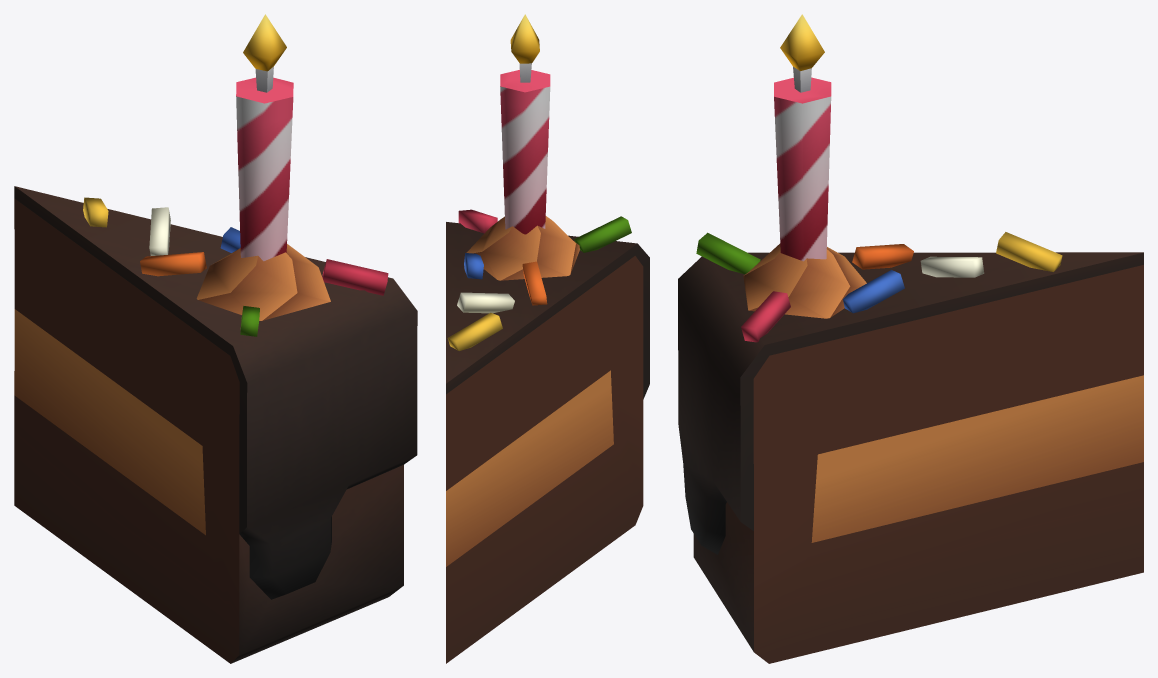
File: m_BirthdayCake04_Slice02.fbx
3 renders of one model, left to right at view 1: azimuth 30°, elevation 25°; view 2: azimuth 150°, elevation 25°; view 3: azimuth 270°, elevation 25°, orthographic. The views are drawn at different scales.
Visible parts, largest first — view 1: m_BirthdayCake04_Slice02; view 2: m_BirthdayCake04_Slice02; view 3: m_BirthdayCake04_Slice02.
Boxes of the visible parts, x1,y1,x2,y2 form: m_BirthdayCake04_Slice02: [14, 14, 417, 663]; m_BirthdayCake04_Slice02: [446, 14, 649, 663]; m_BirthdayCake04_Slice02: [678, 14, 1143, 663].
Size of the model in its own units: 7.24 by 20.5 by 14.48.
